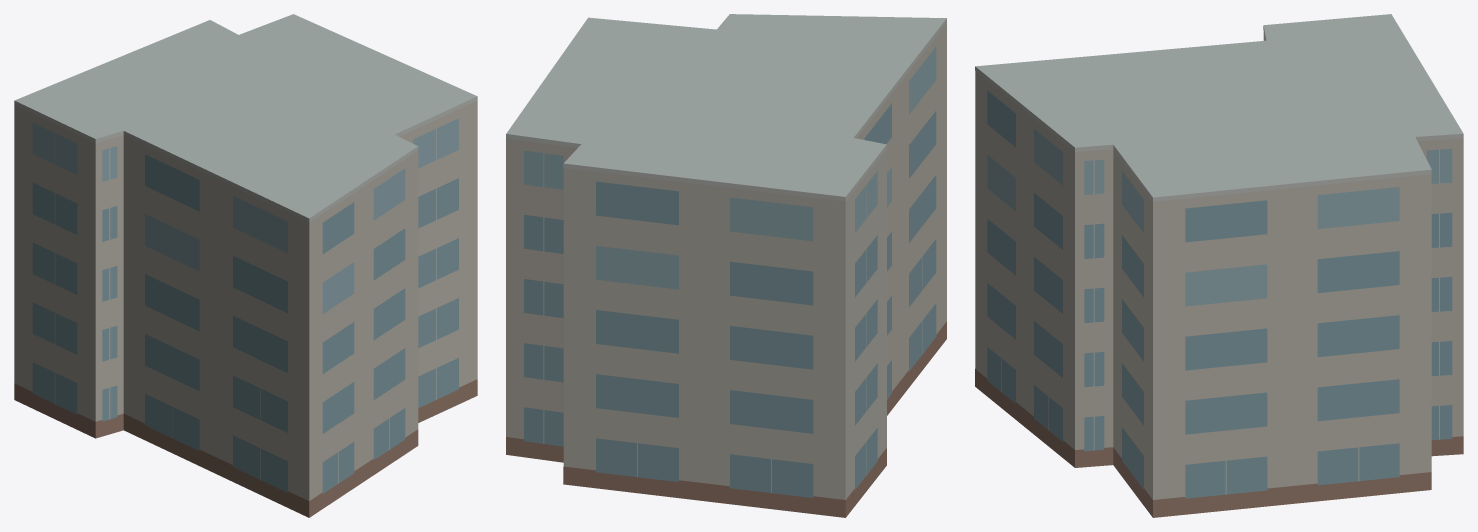
Rendered from survey-upis-32617169.glb.
3 views of the same model, side by side, from view 1: azimuth 30°, elevation 25°; view 2: azimuth 150°, elevation 25°; view 3: azimuth 270°, elevation 25° (orthographic). The views are drawn at different scales.
Parts seen in each view (by area): view 1: survey-upis-32617169.tmp; view 2: survey-upis-32617169.tmp; view 3: survey-upis-32617169.tmp.
Part boxes in pixels (box(x1,y1,x2,y2)): survey-upis-32617169.tmp: box(14, 14, 477, 517); survey-upis-32617169.tmp: box(506, 14, 946, 517); survey-upis-32617169.tmp: box(975, 14, 1463, 517).
Bounding box in the file's own units: 21.39 × 17.4 × 24.06.
